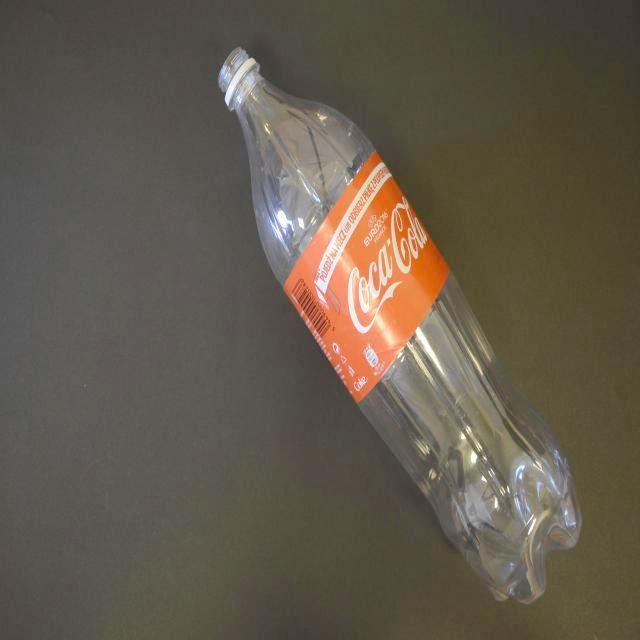bottle: (218, 45, 584, 604)
